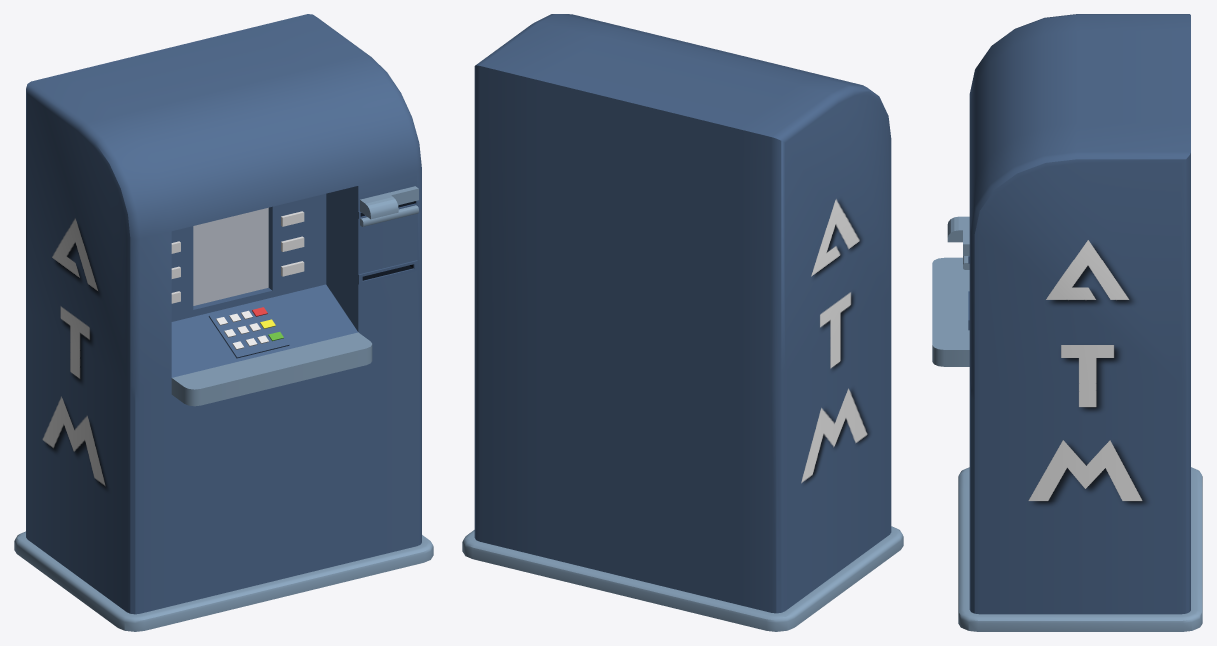
The model's file is atm-A.fbx.
3 views of the same model, side by side, from view 1: azimuth 30°, elevation 25°; view 2: azimuth 150°, elevation 25°; view 3: azimuth 270°, elevation 25° (orthographic). The views are drawn at different scales.
Parts seen in each view (by area): view 1: 1. atm-A; view 2: 1. atm-A; view 3: 1. atm-A.
Part boxes in pixels (bbox=[...]): 1. atm-A: bbox=[14, 14, 433, 631]; 1. atm-A: bbox=[462, 14, 903, 631]; 1. atm-A: bbox=[932, 14, 1202, 631].
Bounding box in the file's own units: 1.76 × 2.5 × 1.3.
